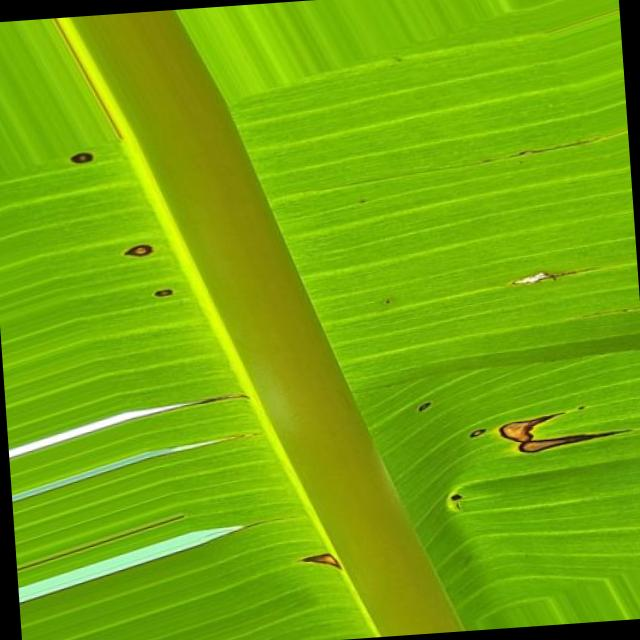Banana_Black_Sigatoka: (437, 331, 632, 556), (56, 149, 245, 345)
